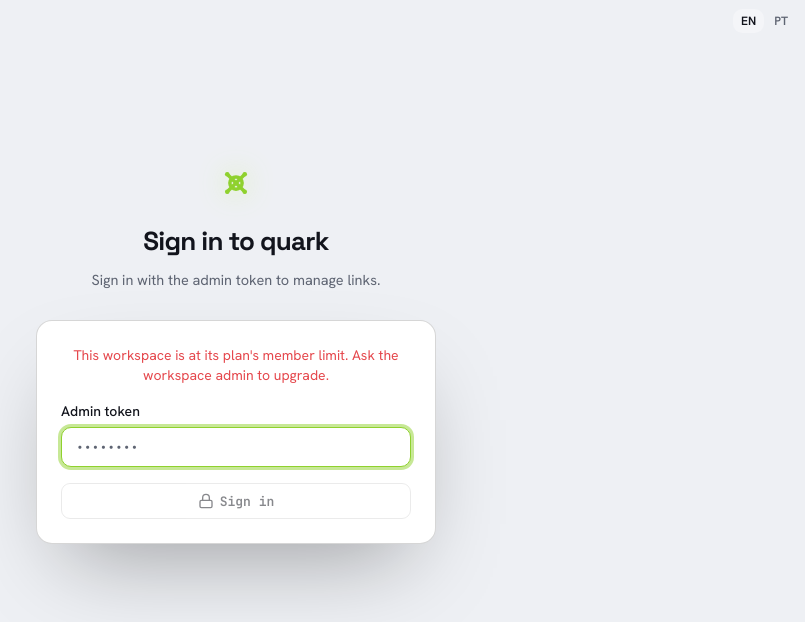
Login › clears the member-limit message once the visitor retries the token form
Expected: the message shows "member limit", [73,346,399,384]
In the password field labelled "Admin token": (236, 447) [61,427,411,467], type "secret"
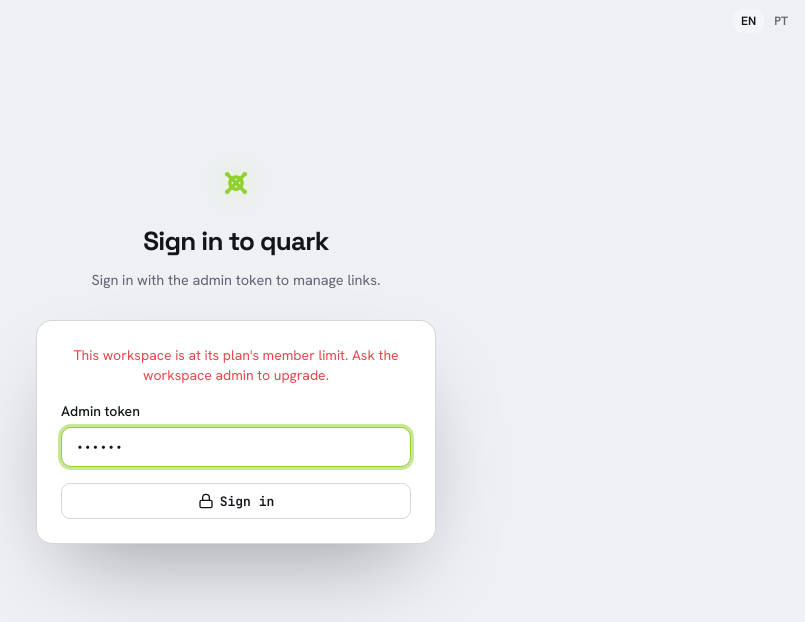
Click the button "Sign in": (236, 501) [61,483,411,519]
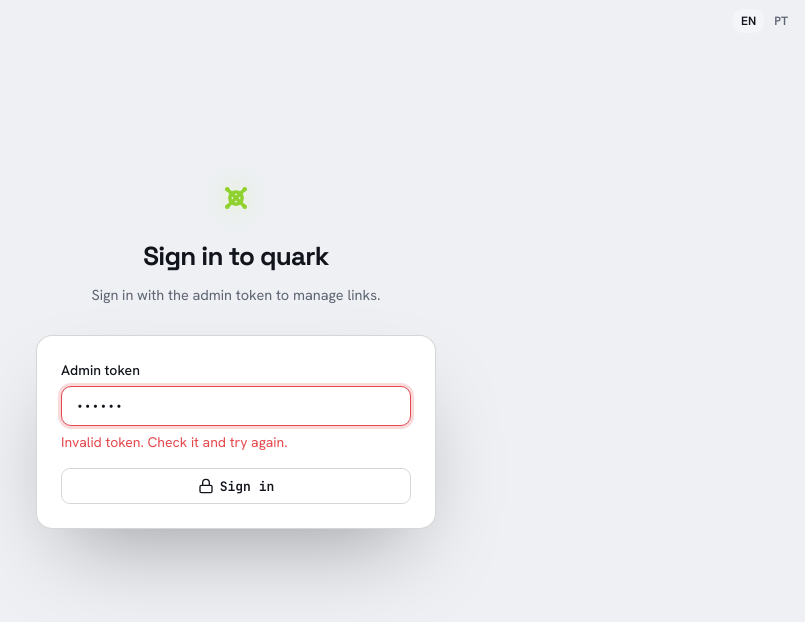
Now the text "Invalid token. Check it and try again." is shown, box [61,433,288,451]
Now the text "member limit" is gone
